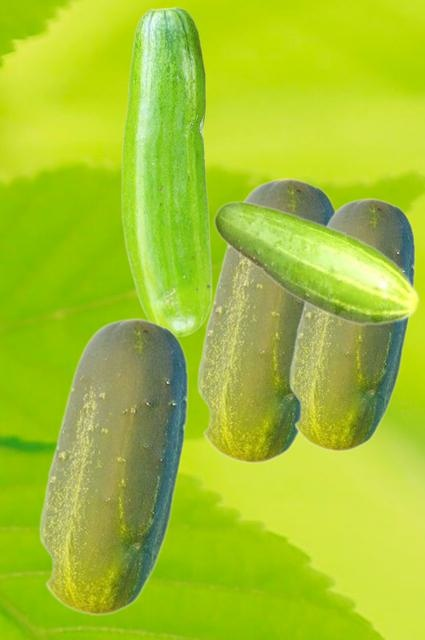cucumber: (38, 317, 187, 615), (196, 177, 335, 463), (288, 197, 414, 451), (121, 6, 211, 336), (213, 200, 419, 326)
